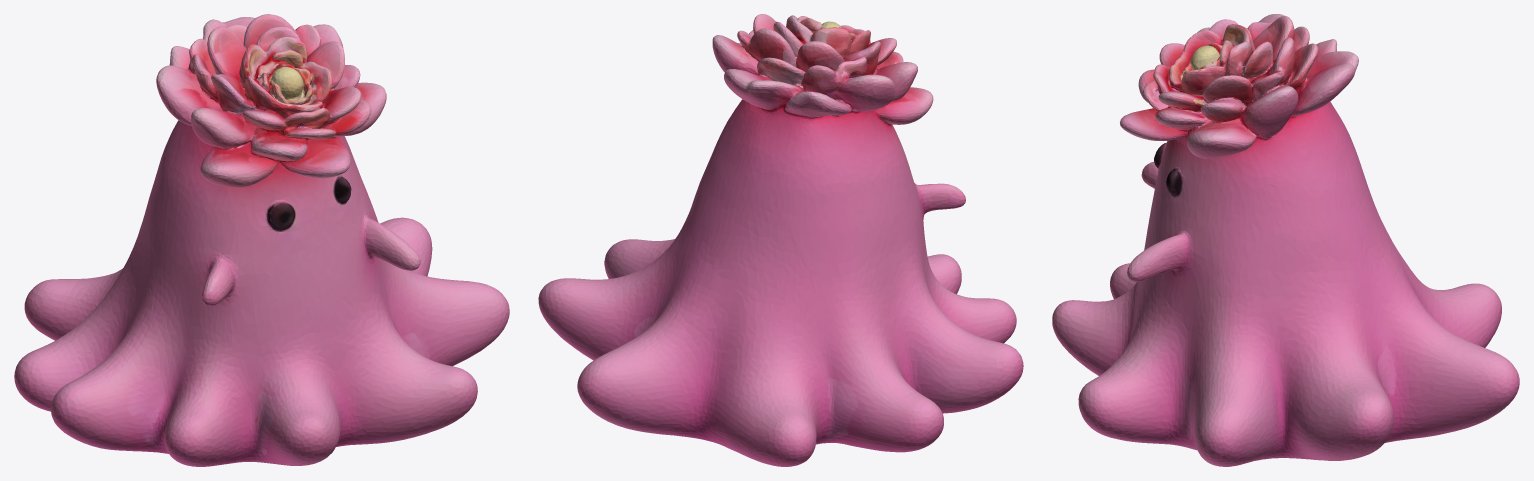
File: ambient_meadow_slime_love.glb
3 views of the same model, side by side, from view 1: azimuth 30°, elevation 25°; view 2: azimuth 150°, elevation 25°; view 3: azimuth 270°, elevation 25° (orthographic). The views are drawn at different scales.
Visible parts, largest first — view 1: tmpu7pm2l40.ply; view 2: tmpu7pm2l40.ply; view 3: tmpu7pm2l40.ply.
Boxes of the visible parts, x1=… form: tmpu7pm2l40.ply: x1=14, y1=14, x2=509, y2=466; tmpu7pm2l40.ply: x1=538, y1=14, x2=1023, y2=466; tmpu7pm2l40.ply: x1=1052, y1=14, x2=1519, y2=466.
Size of the model in its own units: 1.99 by 1.65 by 1.86.
1 material, 1 textured.
